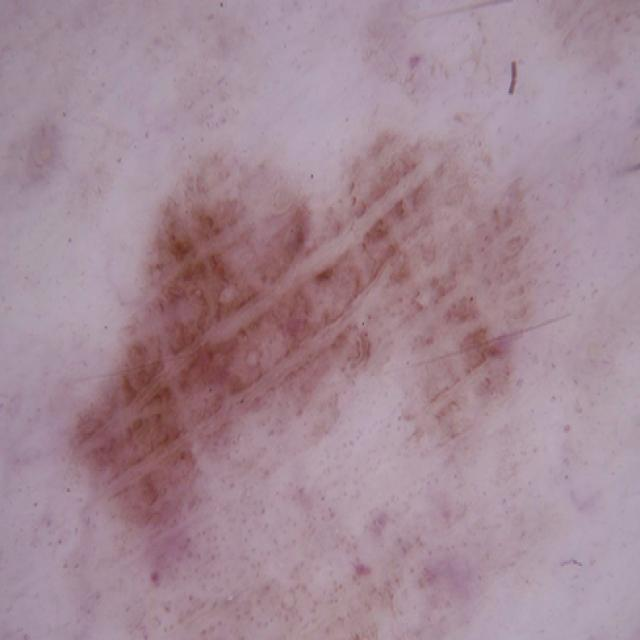Keratosis: (63, 152, 361, 500), (377, 139, 556, 435), (143, 539, 497, 640)
